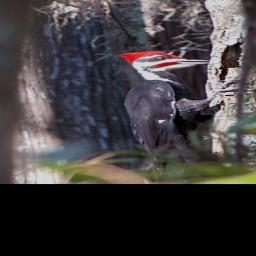Woodpecker: (115, 51, 256, 177)
